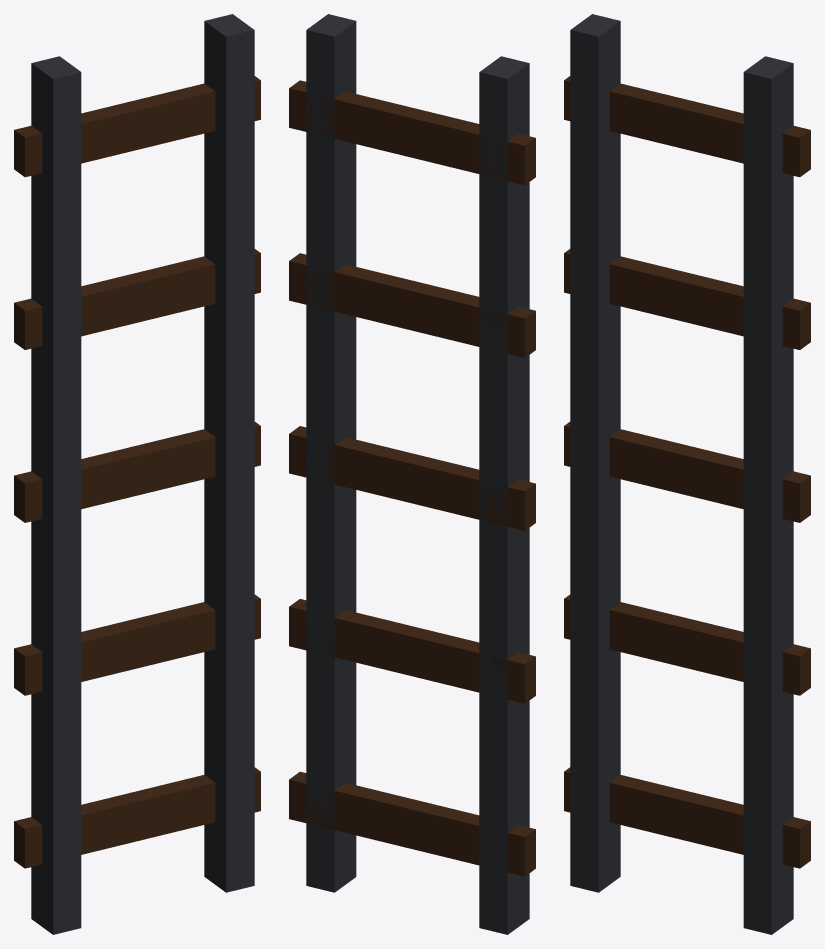
The model's file is SM_MoriaMineRail.obj.
3 views of the same model, side by side, from view 1: azimuth 30°, elevation 25°; view 2: azimuth 150°, elevation 25°; view 3: azimuth 330°, elevation 25° (orthographic).
Visible parts, largest first — view 1: SM_MoriaMineRail; view 2: SM_MoriaMineRail; view 3: SM_MoriaMineRail.
Boxes of the visible parts, x1,y1,x2,y2 form: SM_MoriaMineRail: [14, 14, 260, 934]; SM_MoriaMineRail: [289, 14, 535, 934]; SM_MoriaMineRail: [564, 14, 810, 934].
Bounding box in the file's own units: 150 × 520 × 24.
